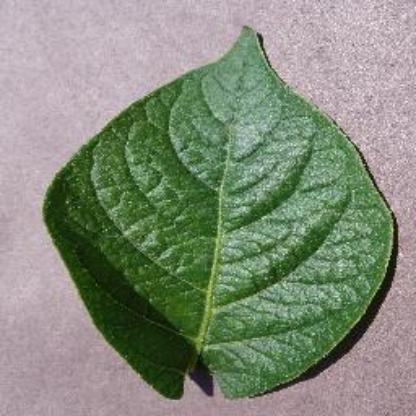Healthy-plant: (35, 21, 400, 404)
